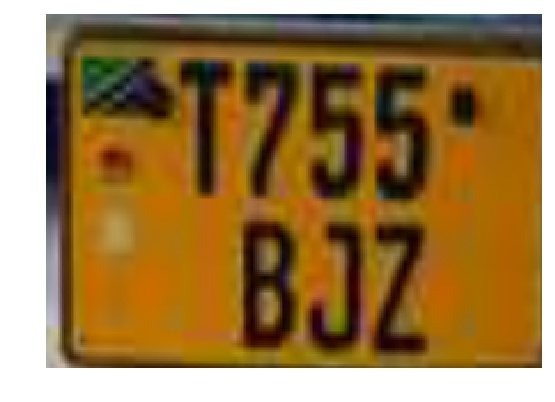T: (168, 51, 241, 206)
